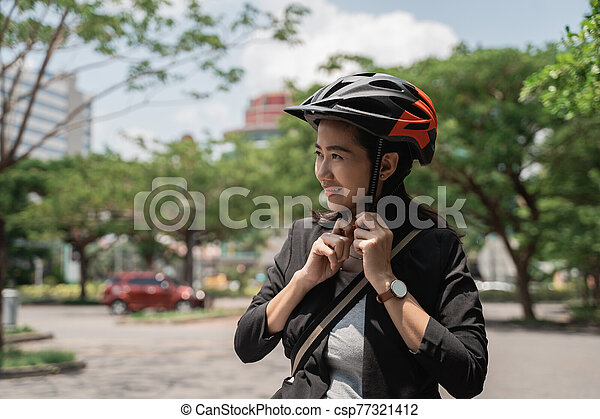helmet: (283, 73, 438, 211)
